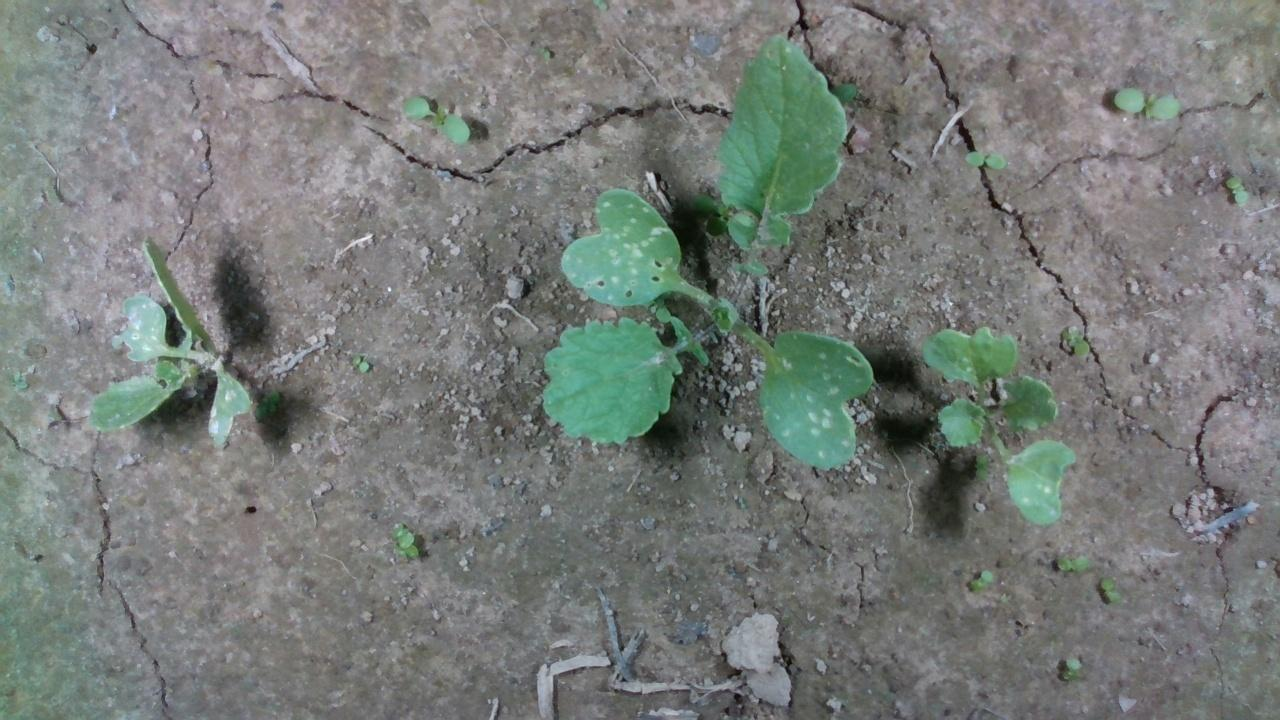weed: (397, 87, 465, 164), (1113, 81, 1176, 123), (379, 518, 419, 562), (1221, 168, 1253, 215), (961, 145, 1009, 174), (1097, 572, 1130, 613), (1056, 649, 1087, 683), (1052, 546, 1081, 580), (1063, 323, 1086, 356), (965, 564, 988, 592)
